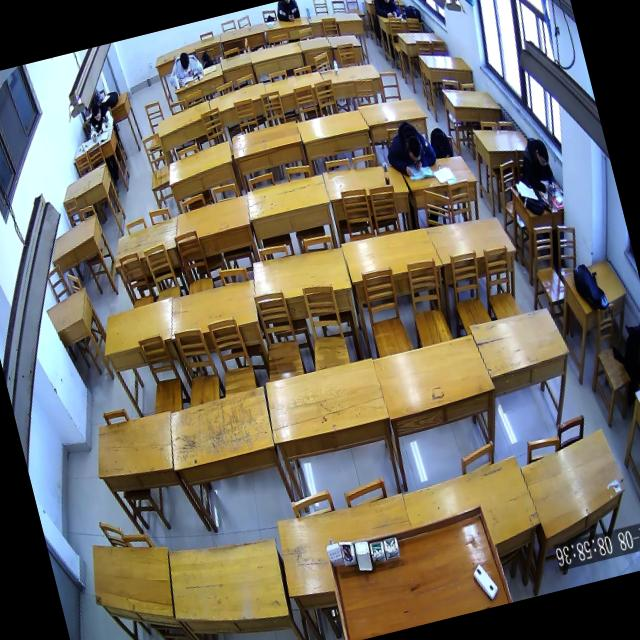bow: (379, 117, 438, 181), (163, 48, 205, 86)
down: (402, 132, 427, 166), (532, 139, 550, 167), (178, 49, 192, 72), (90, 100, 102, 122), (379, 0, 391, 4)
sit: (515, 133, 557, 194), (82, 99, 117, 141), (369, 0, 400, 22)
